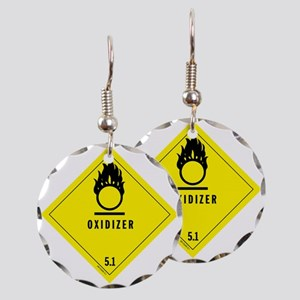Oxidizer: (40, 147, 176, 283), (153, 123, 260, 257)
